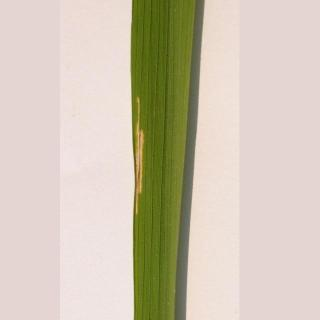Hawar-Daun: (118, 89, 158, 259)
